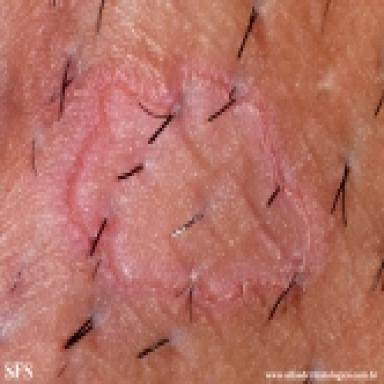Porokeratosis: (64, 60, 319, 308)
